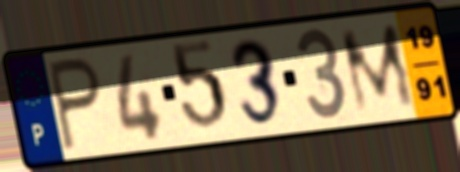3: (229, 34, 290, 133), (294, 23, 351, 127)
4: (114, 50, 166, 143)
5: (166, 37, 232, 139)
M: (336, 19, 420, 118)
P: (45, 54, 105, 155)
